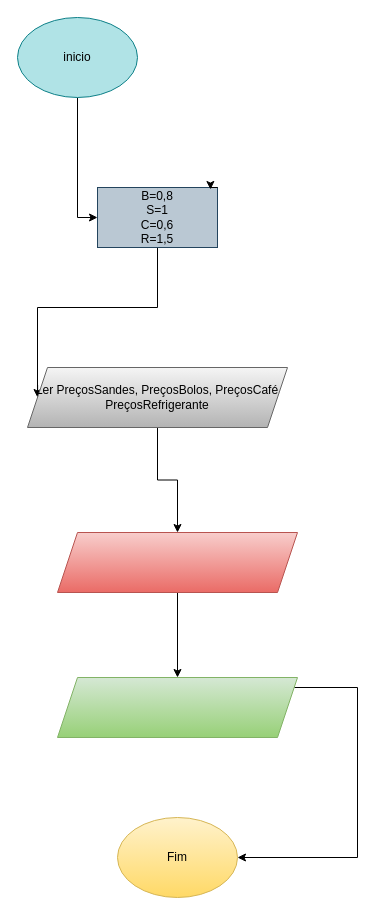
The diagram is 383 pixels wide and 915 high, and some of its shapes have lost their labels. The shapes that lost their labels are listed below. From the top down, each one's centre as x and y in pixels, then its label:
At [177,562]: "Ler SandesVendidas, BolosVendidos CaféVendidos, RefrigeranteVendido".
At [177,707]: "Lucro= SV, BV, CV, RV".
